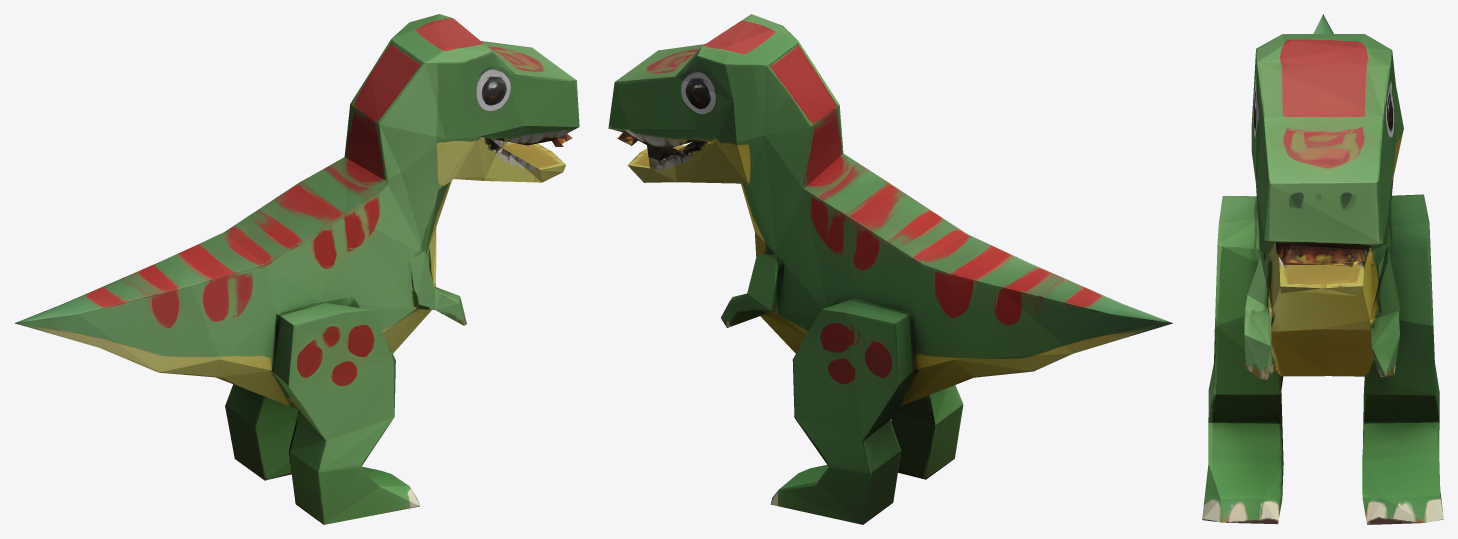
3 views of the same model, side by side, from view 1: azimuth 30°, elevation 25°; view 2: azimuth 150°, elevation 25°; view 3: azimuth 270°, elevation 25° (orthographic). The views are drawn at different scales.
Parts seen in each view (by area): view 1: Figure; view 2: Figure; view 3: Figure.
Part boxes in pixels (x1,y1,x2,y2): Figure: (15, 14, 579, 524); Figure: (608, 14, 1172, 524); Figure: (1202, 14, 1443, 524).
Bounding box in the file's own units: 0.7239 × 0.5338 × 0.2245.
1 material, 1 textured.
